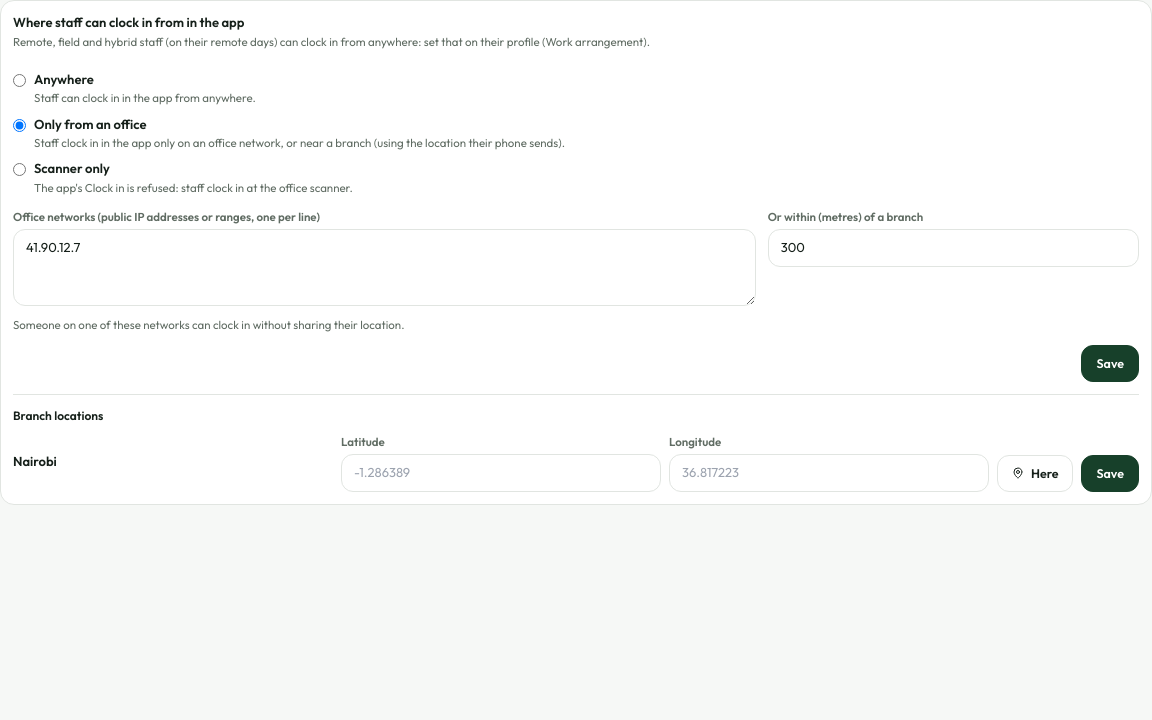
Test: ClockInPolicy › shows the database’s refusal (a private address) and a bad distance
The image size is (1152, 720).
Step 1. Replace the text in the number field labelled "Or within (metres) of a branch" with "5" → (953, 248), box x1=768 y1=229 x2=1139 y2=267
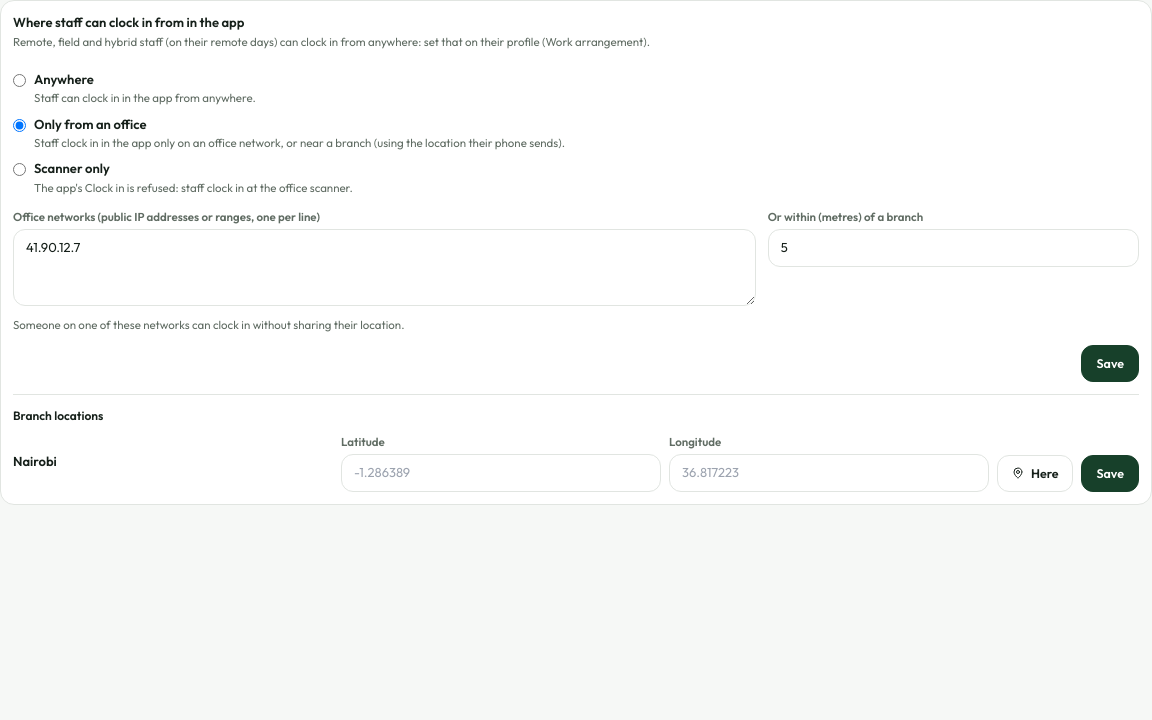
Step 2. Click the 1st button "Save" → (1110, 363), box x1=1082 y1=345 x2=1139 y2=382
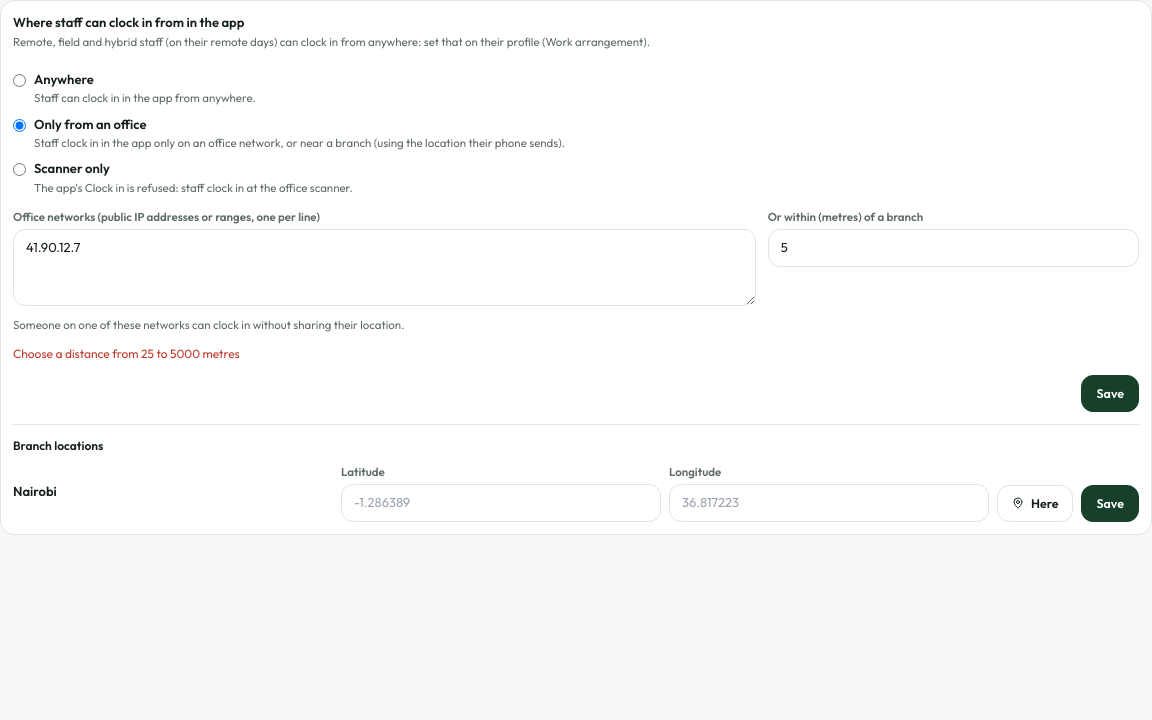
Expected: the message shows "25 to 5000 metres", x1=13 y1=346 x2=240 y2=361
Step 3. Replace the text in the number field labelled "Or within (metres) of a branch" with "300" → (953, 248), box x1=768 y1=229 x2=1139 y2=267
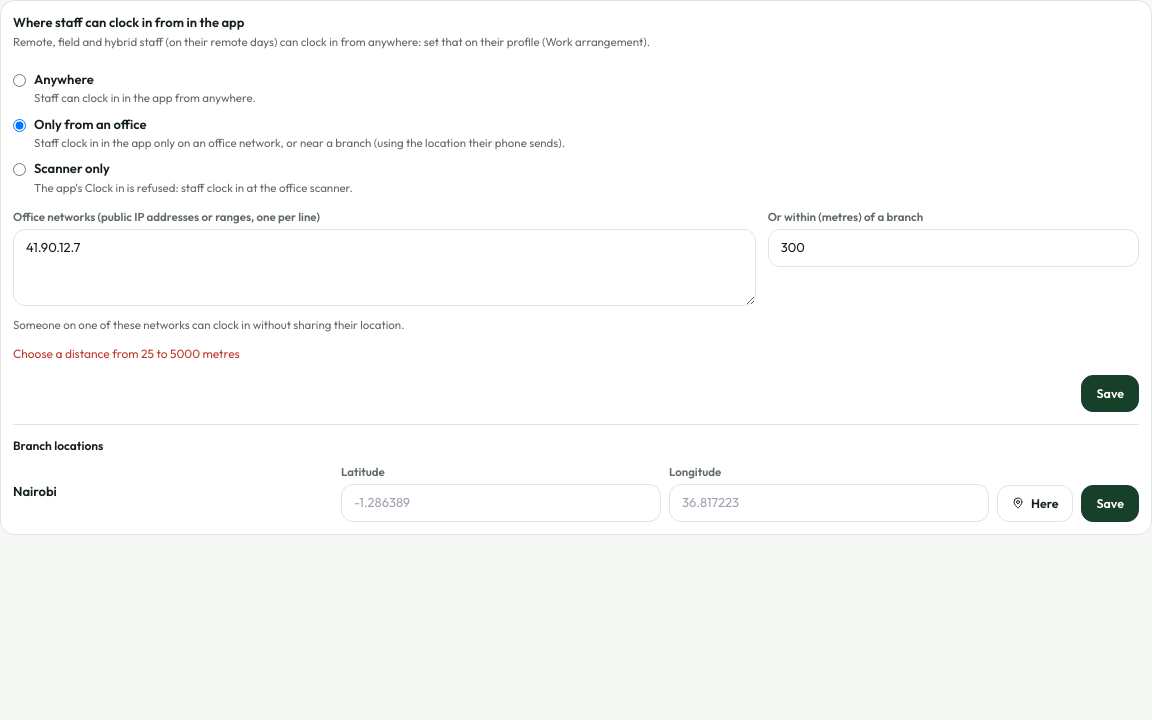
Step 4. Click the 1st button "Save" → (1110, 393), box x1=1082 y1=375 x2=1139 y2=412
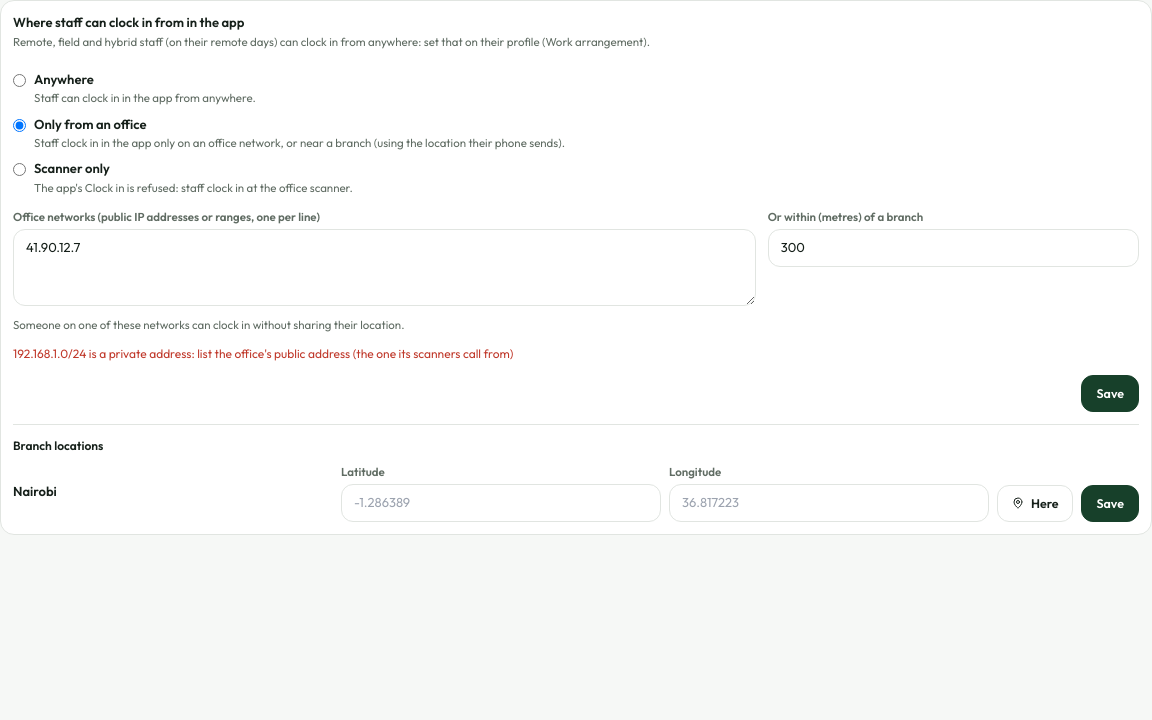
Expected: the message shows "private address", x1=13 y1=346 x2=513 y2=361
